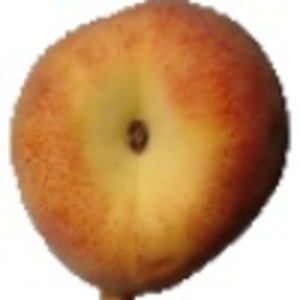pêssego: (7, 1, 290, 300)
